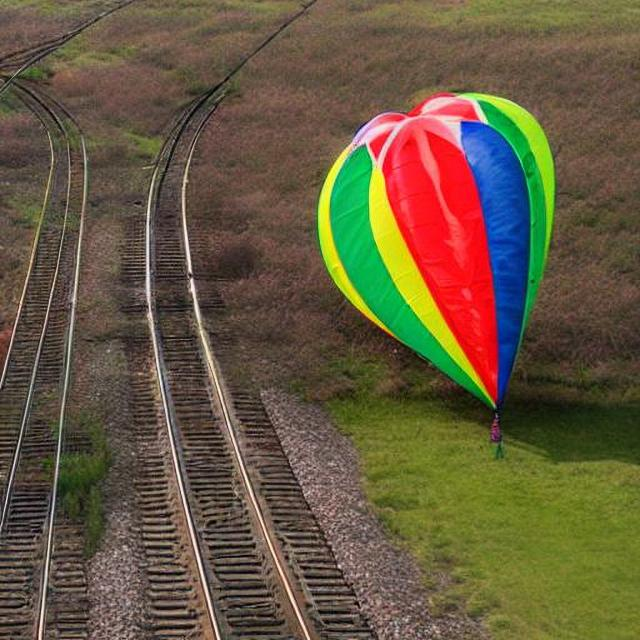balloon: (312, 86, 560, 448)
